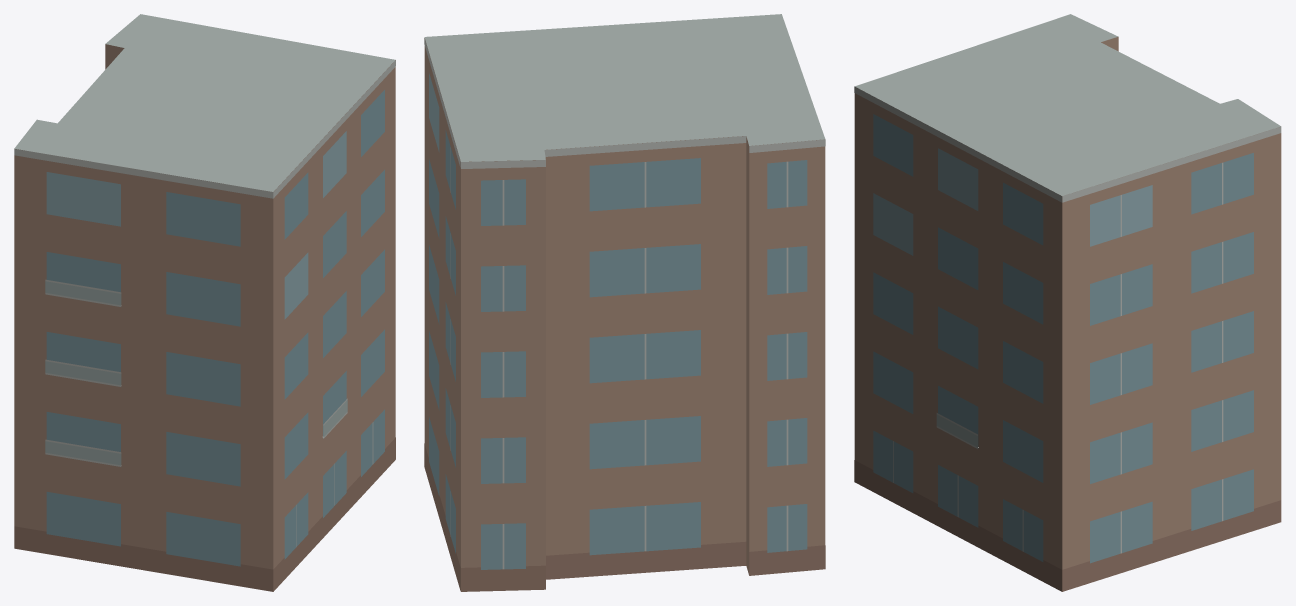
The model's file is survey-upis-32762109.glb.
3 views of the same model, side by side, from view 1: azimuth 30°, elevation 25°; view 2: azimuth 150°, elevation 25°; view 3: azimuth 270°, elevation 25° (orthographic). The views are drawn at different scales.
Visible parts, largest first — view 1: survey-upis-32762109.tmp; view 2: survey-upis-32762109.tmp; view 3: survey-upis-32762109.tmp.
Boxes of the visible parts, x1,y1,x2,y2 form: survey-upis-32762109.tmp: (14,14,395,591); survey-upis-32762109.tmp: (424,14,825,591); survey-upis-32762109.tmp: (854,14,1281,591).
Size of the model in its own units: 14.52 by 14.7 by 14.38.
